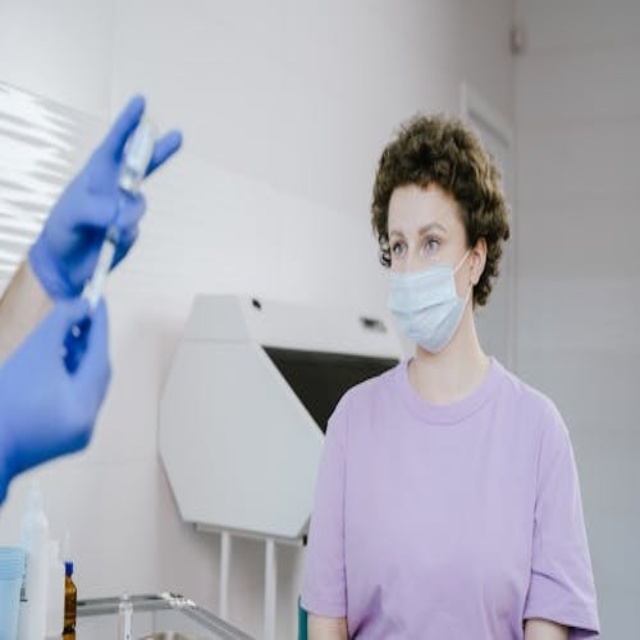Guantes: (29, 93, 184, 306), (1, 288, 116, 527)
Mascara: (388, 249, 474, 353)
Sin_gafas: (383, 217, 452, 265)
